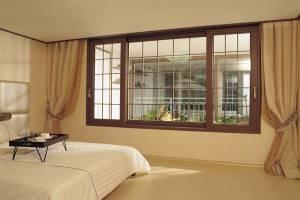window: (92, 30, 251, 128)
